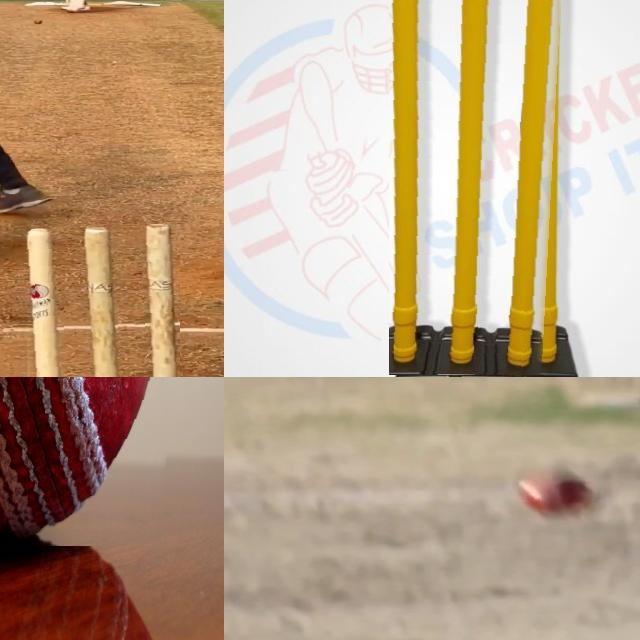Cricket ball: (0, 377, 186, 545), (518, 472, 599, 521), (34, 18, 43, 24)
Stumps: (389, 0, 568, 374), (17, 224, 180, 377)
